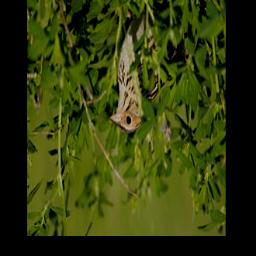Sparrow: (108, 0, 189, 135)
